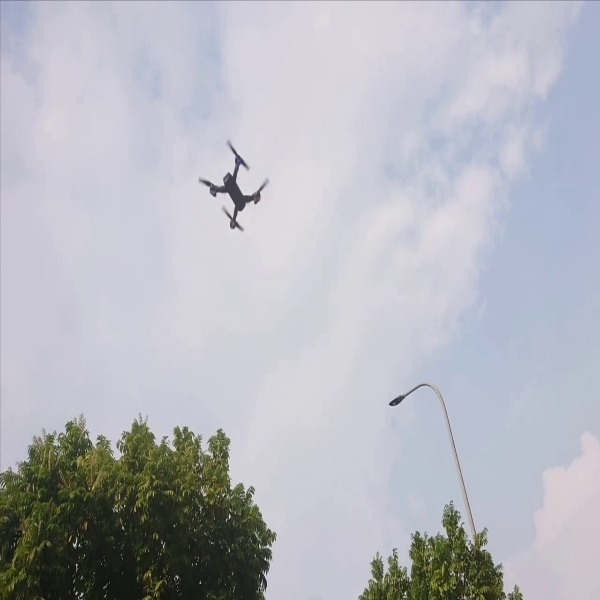drone: (190, 137, 277, 234)
